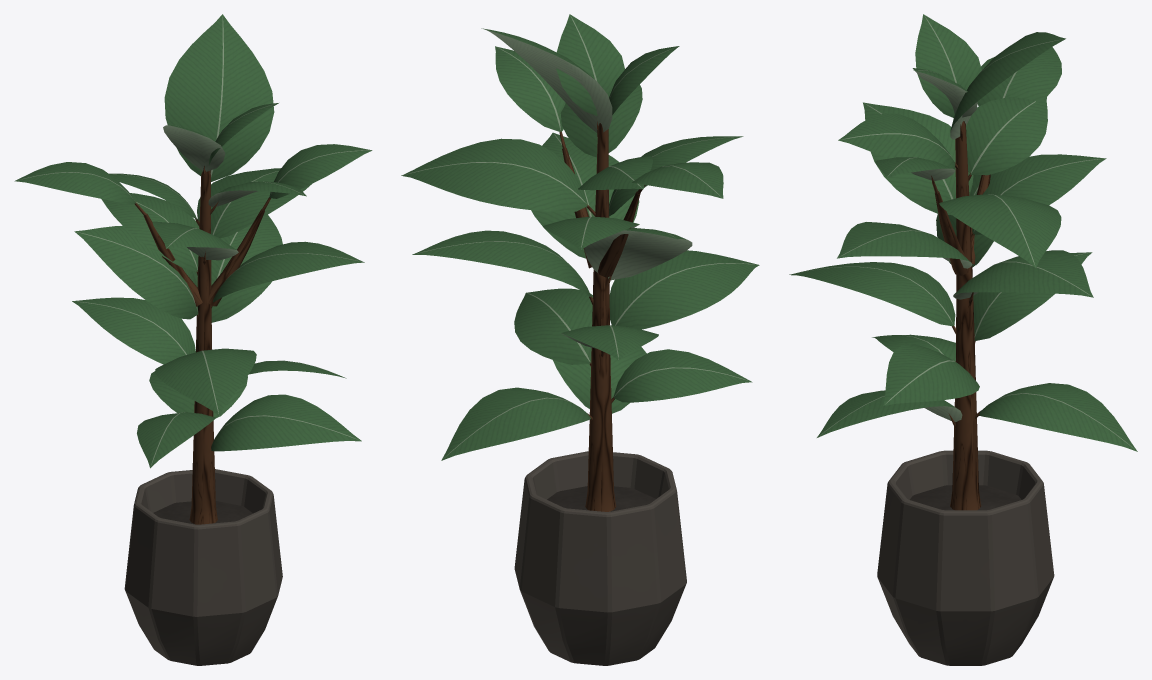
Rendered from plant.glb.
3 renders of one model, left to right at view 1: azimuth 30°, elevation 25°; view 2: azimuth 150°, elevation 25°; view 3: azimuth 270°, elevation 25°, orthographic. The views are drawn at different scales.
Parts seen in each view (by area): view 1: houseplant-leaf, houseplant-pot, houseplant-stem, houseplant-leafUnder, houseplant-soil; view 2: houseplant-leaf, houseplant-pot, houseplant-leafUnder, houseplant-stem, houseplant-soil; view 3: houseplant-leaf, houseplant-pot, houseplant-stem, houseplant-leafUnder, houseplant-soil.
Boxes of the visible parts, box(x1,y1,x2,y2) form: houseplant-leaf: box(14, 14, 372, 468); houseplant-pot: box(124, 469, 282, 665); houseplant-stem: box(134, 166, 270, 524); houseplant-leafUnder: box(18, 17, 370, 466); houseplant-soil: box(153, 501, 252, 524); houseplant-leaf: box(401, 14, 759, 460); houseplant-pot: box(514, 451, 686, 665); houseplant-leafUnder: box(403, 16, 757, 458); houseplant-stem: box(559, 121, 645, 511); houseplant-soil: box(547, 486, 655, 511); houseplant-leaf: box(789, 14, 1137, 451); houseplant-pot: box(877, 450, 1054, 665); houseplant-stem: box(931, 121, 990, 510); houseplant-leafUnder: box(795, 15, 1136, 450); houseplant-soil: box(910, 485, 1021, 510).
Bounding box in the file's own units: 0.8172 × 1.5 × 0.745.
5 materials, 5 textured.
